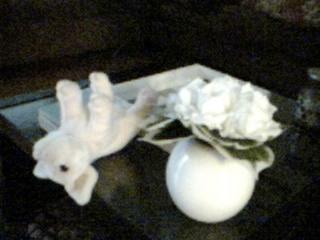piggy: (29, 70, 157, 208)
